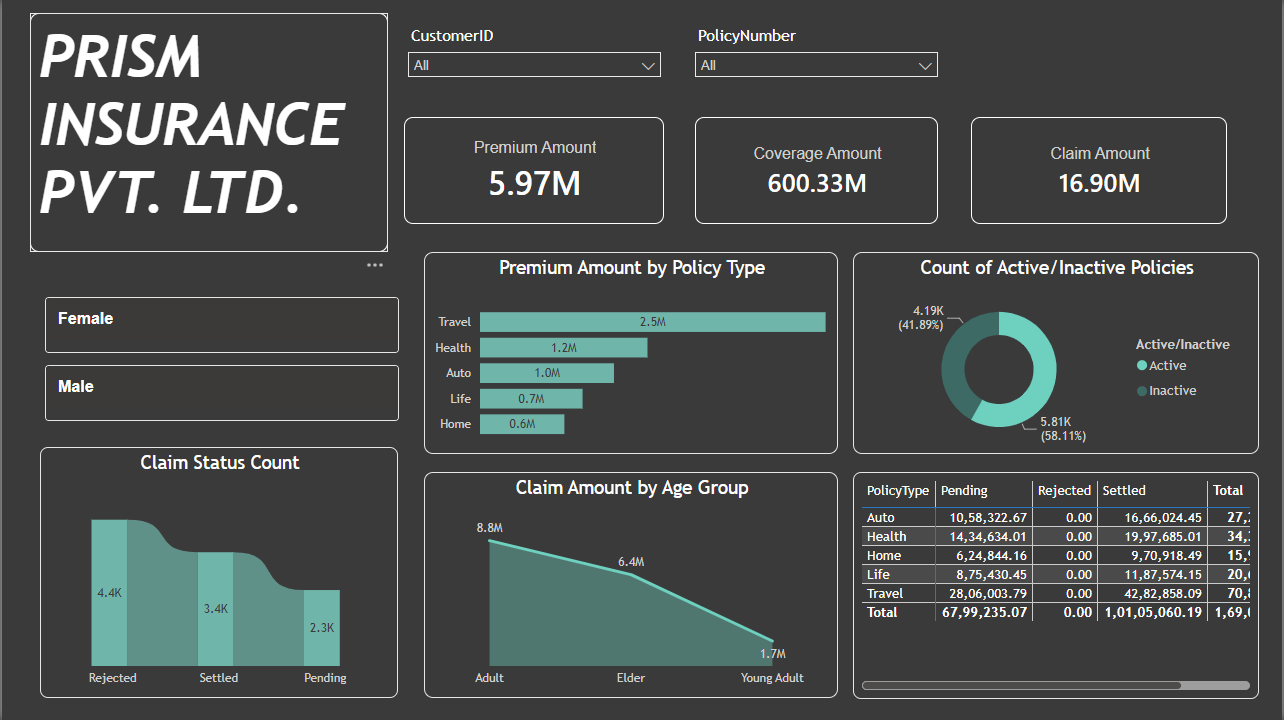

This screenshot's page, from the dashboard's own definition file:
{"tool":"powerbi","page":{"name":"Page 1","canvas":[1280,720],"ordinal":0},"visuals":[{"type":"slicer","fields":{"Values":["InsuranceData.PolicyNumber"]},"box":[683.3,21.4,262.6,67.1],"z":0},{"type":"slicer","fields":{"Values":["InsuranceData.CustomerID"]},"box":[395.9,21.4,273.3,67.1],"z":1000},{"type":"donutChart","title":"Count of Active/Inactive Policies","fields":{"Category":["InsuranceData.Active/Inactive"],"Y":["CountNonNull(InsuranceData.Active/Inactive)"]},"box":[851.1,251.9,405.6,202.3],"z":2000},{"type":"textbox","box":[28.2,12.6,357.9,239.3],"z":3000},{"type":"cardVisual","fields":{"Data":["Sum(InsuranceData.PremiumAmount)"]},"box":[401.7,116.7,260.7,107],"z":4000},{"type":"cardVisual","fields":{"Data":["Sum(InsuranceData.CoverageAmount)"]},"box":[692.5,116.7,243.2,107],"z":5000},{"type":"cardVisual","fields":{"Data":["Sum(InsuranceData.ClaimAmount)"]},"box":[968.8,116.7,255.8,107],"z":6000},{"type":"cardVisual","fields":{"Data":["CountNonNull(InsuranceData.Gender)"],"Rows":["InsuranceData.Gender"]},"box":[37.9,272.3,363.8,175.1],"z":7000},{"type":"ribbonChart","title":"Claim Status Count","fields":{"Category":["InsuranceData.ClaimStatus"],"Y":["CountNonNull(InsuranceData.ClaimStatus)"]},"box":[37.9,447.4,357.9,250.9],"z":8000},{"type":"barChart","title":"Premium Amount by Policy Type","fields":{"Category":["InsuranceData.PolicyType"],"Y":["Sum(InsuranceData.PremiumAmount)"]},"box":[422.1,251.9,413.4,202.3],"z":9000},{"type":"areaChart","title":"Claim Amount by Age Group","fields":{"Category":["InsuranceData.Age Group"],"Y":["Sum(InsuranceData.ClaimAmount)"]},"box":[422.1,471.7,413.4,226.6],"z":10000},{"type":"pivotTable","fields":{"Values":["Sum(InsuranceData.ClaimAmount)"],"Rows":["InsuranceData.PolicyType"],"Columns":["InsuranceData.ClaimStatus"]},"box":[851,472,406,227],"z":11000}]}

Visuals, with their boxes in screenshot pixels (x1, y1, x2, y2), scaled from the page's 1280x720 canvas onto the 1284x720 screenshot:
slicer - InsuranceData.PolicyNumber: pyautogui.locateOnScreen(685, 21, 949, 88)
slicer - InsuranceData.CustomerID: pyautogui.locateOnScreen(397, 21, 671, 88)
"Count of Active/Inactive Policies" donutChart: pyautogui.locateOnScreen(854, 252, 1261, 454)
textbox: pyautogui.locateOnScreen(28, 13, 387, 252)
cardVisual - Sum(InsuranceData.PremiumAmount): pyautogui.locateOnScreen(403, 117, 664, 224)
cardVisual - Sum(InsuranceData.CoverageAmount): pyautogui.locateOnScreen(695, 117, 939, 224)
cardVisual - Sum(InsuranceData.ClaimAmount): pyautogui.locateOnScreen(972, 117, 1228, 224)
cardVisual - CountNonNull(InsuranceData.Gender) x InsuranceData.Gender: pyautogui.locateOnScreen(38, 272, 403, 447)
"Claim Status Count" ribbonChart: pyautogui.locateOnScreen(38, 447, 397, 698)
"Premium Amount by Policy Type" barChart: pyautogui.locateOnScreen(423, 252, 838, 454)
"Claim Amount by Age Group" areaChart: pyautogui.locateOnScreen(423, 472, 838, 698)
pivotTable - Sum(InsuranceData.ClaimAmount) x InsuranceData.PolicyType: pyautogui.locateOnScreen(854, 472, 1261, 699)
